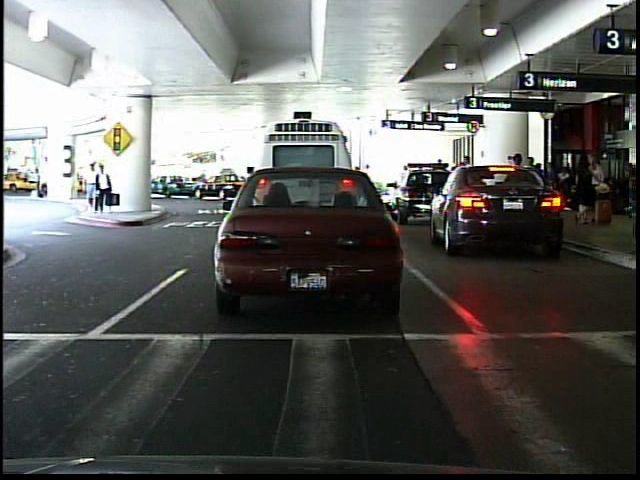person: (82, 156, 117, 213), (356, 158, 378, 200), (34, 165, 49, 203), (196, 166, 212, 195)
